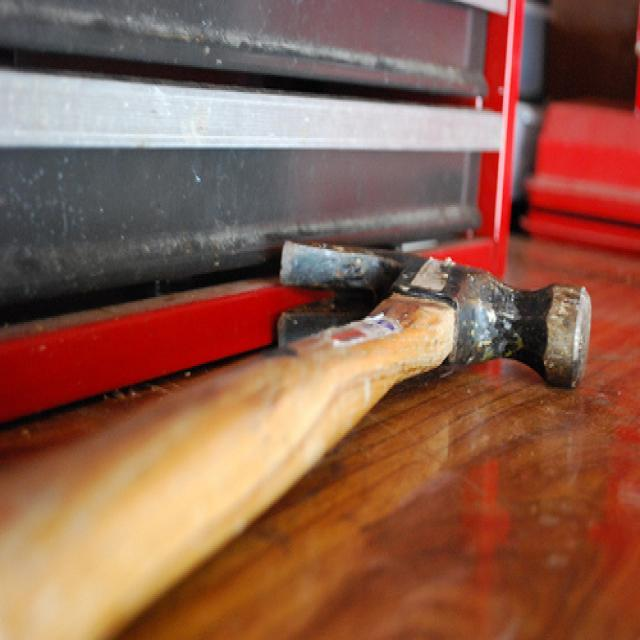hammer: (0, 226, 608, 640)
